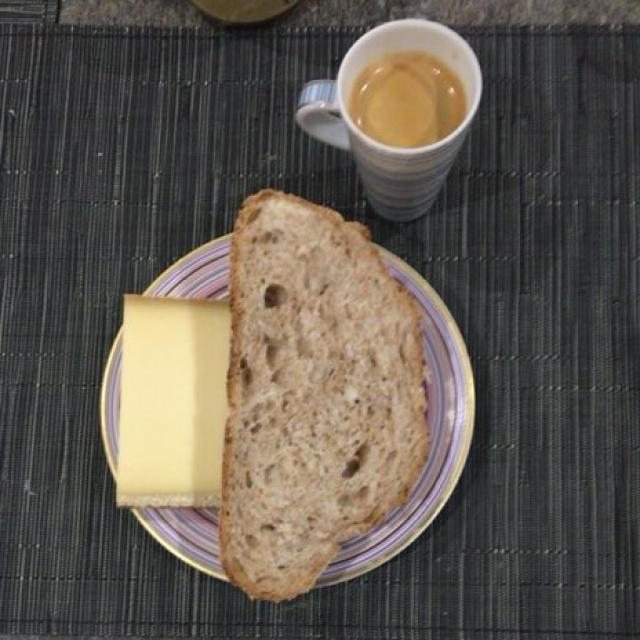bread: (224, 190, 424, 591)
cheese: (114, 306, 227, 496)
espresso: (352, 52, 457, 144)
